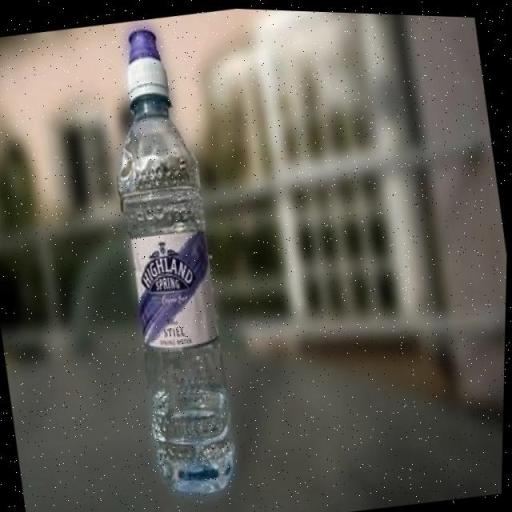plastic: (86, 17, 256, 504)
